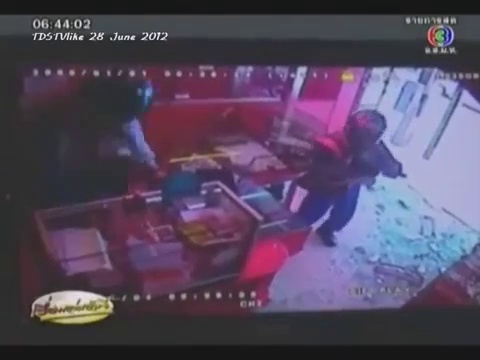helmet: (344, 105, 386, 152)
